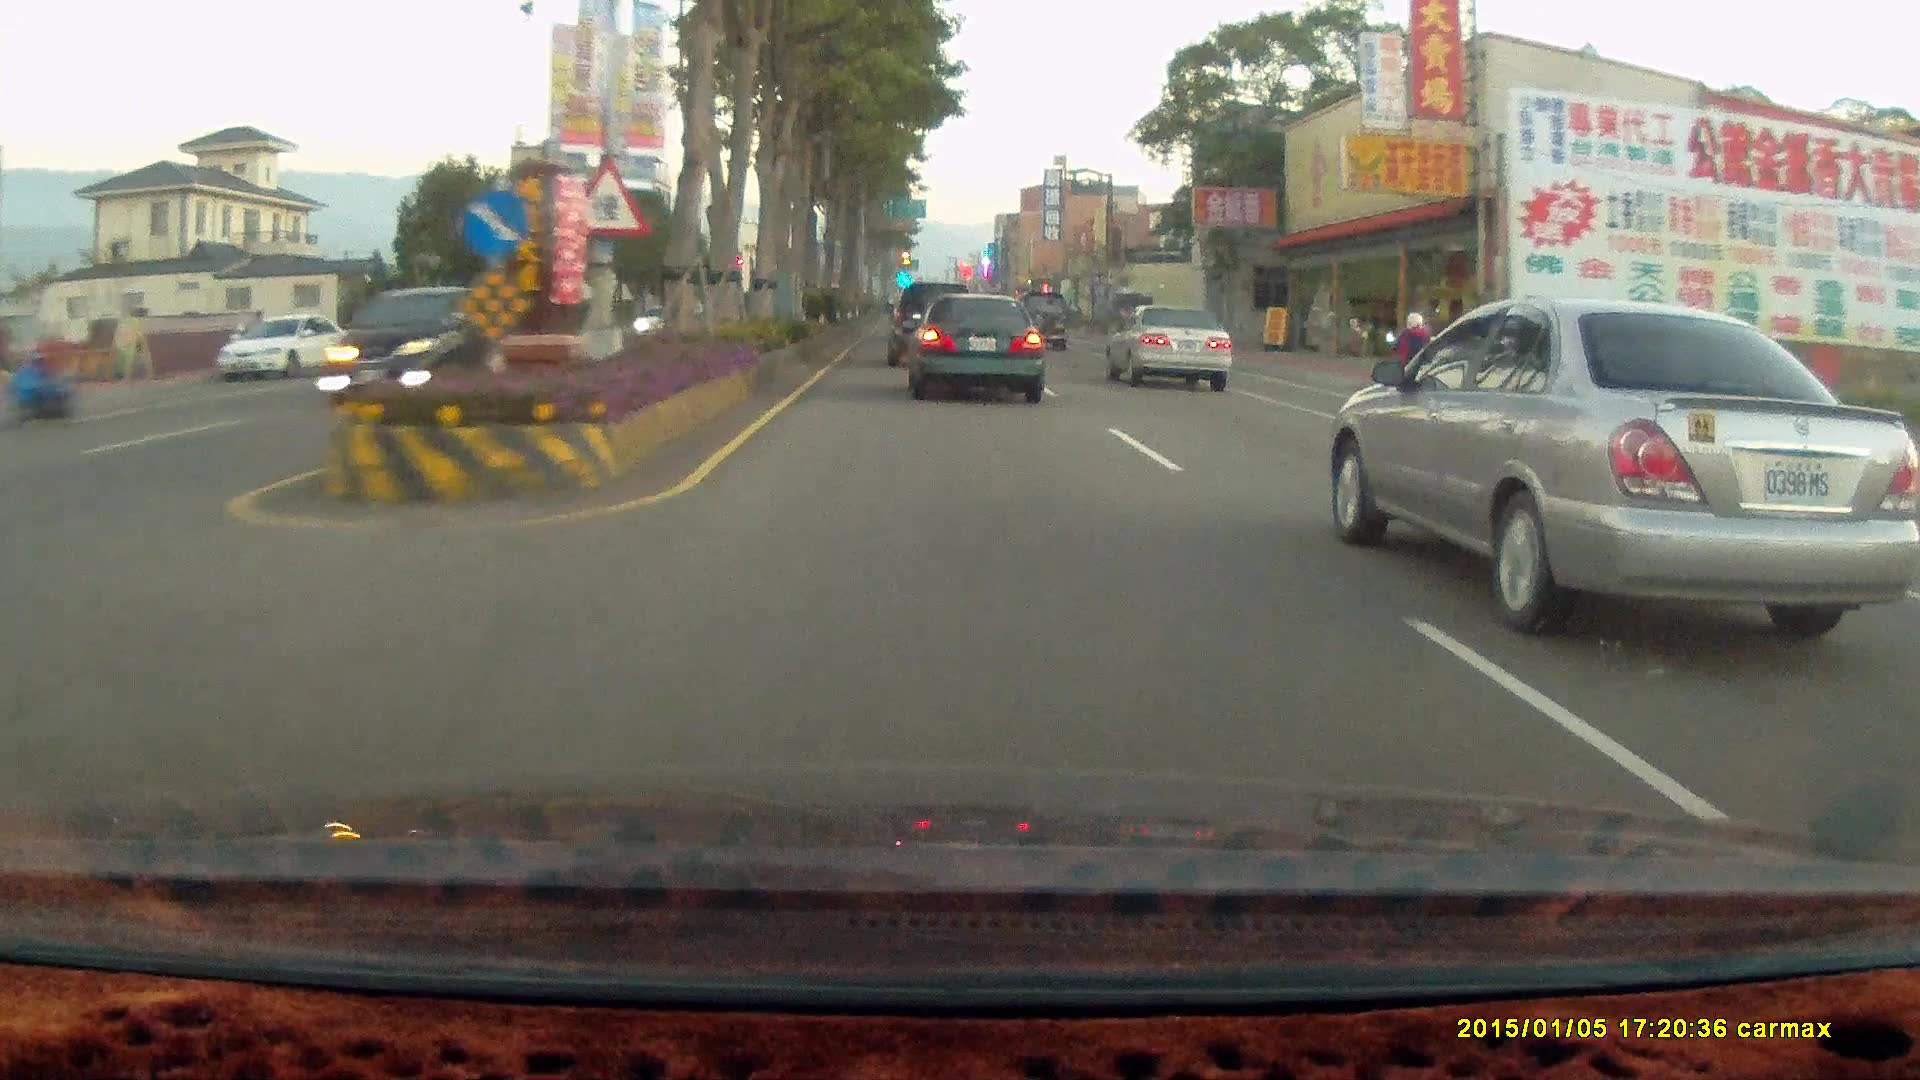rider: (1376, 301, 1449, 425), (4, 326, 77, 428), (1384, 323, 1438, 431)
vehicle: (1344, 288, 1920, 633), (317, 287, 511, 405), (906, 288, 1050, 406), (902, 287, 1046, 399), (1107, 303, 1237, 390), (1104, 301, 1233, 388), (221, 313, 353, 387), (214, 311, 345, 383), (884, 281, 977, 371), (887, 281, 973, 366), (1011, 287, 1070, 349)
